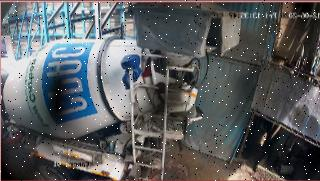cement_mixer_truck: (0, 37, 218, 181)
